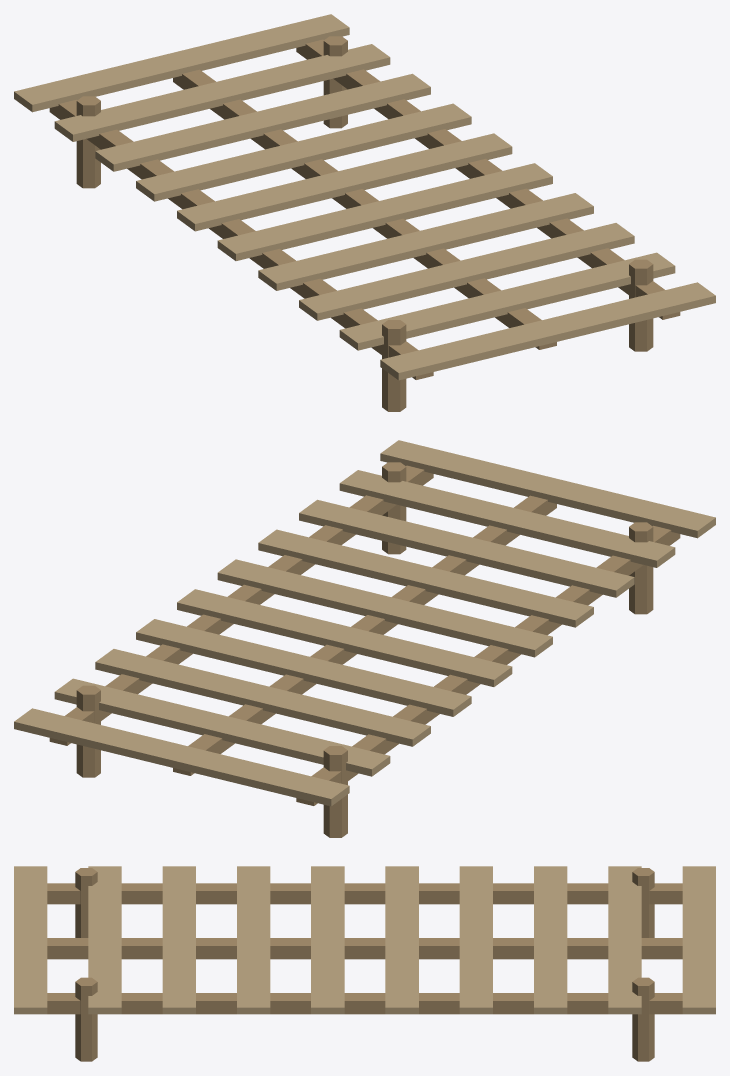
Rendered from dock_small.glb.
The picture shows the model from 3 angles, top to bottom: view 1: azimuth 30°, elevation 25°; view 2: azimuth 150°, elevation 25°; view 3: azimuth 270°, elevation 25°; orthographic projection. The views are drawn at different scales.
Parts seen in each view (by area): view 1: DockSmall; view 2: DockSmall; view 3: DockSmall.
Part boxes in pixels (<box>): DockSmall: <box>14,14,715,411</box>; DockSmall: <box>14,440,715,837</box>; DockSmall: <box>14,866,715,1061</box>.
Bounding box in the file's own units: 1.8 × 0.45 × 3.78.
